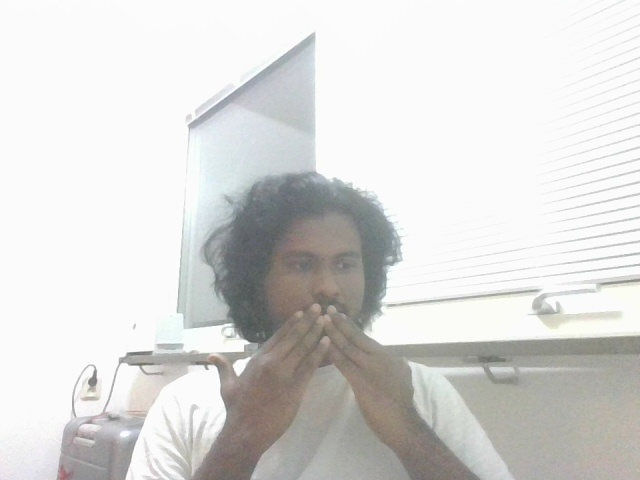Thanks: (190, 289, 456, 440)
